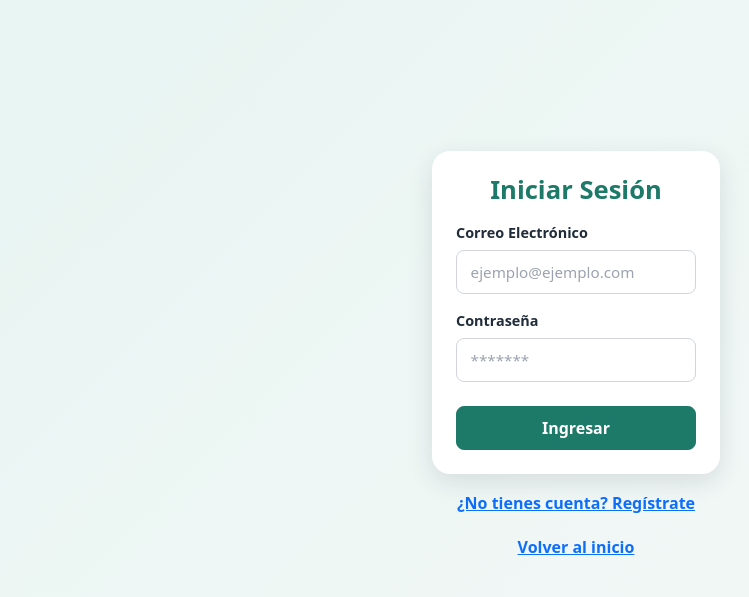
it: Página Login › muestra errores si se envía vacío y no navega
The image size is (749, 597).
What coordinates should you click on to do the following:
click the button "Ingresar"
I would click on:
 (576, 428)
Its box is [456, 406, 696, 450].
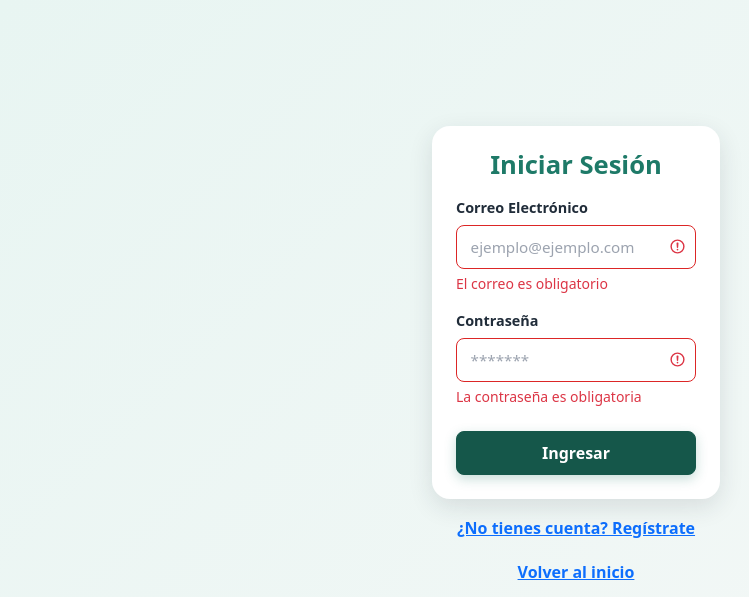
Now the text "El correo es obligatorio" is shown, box [456, 274, 608, 293]
Now the text "La contraseña es obligatoria" is shown, box [456, 387, 642, 406]
